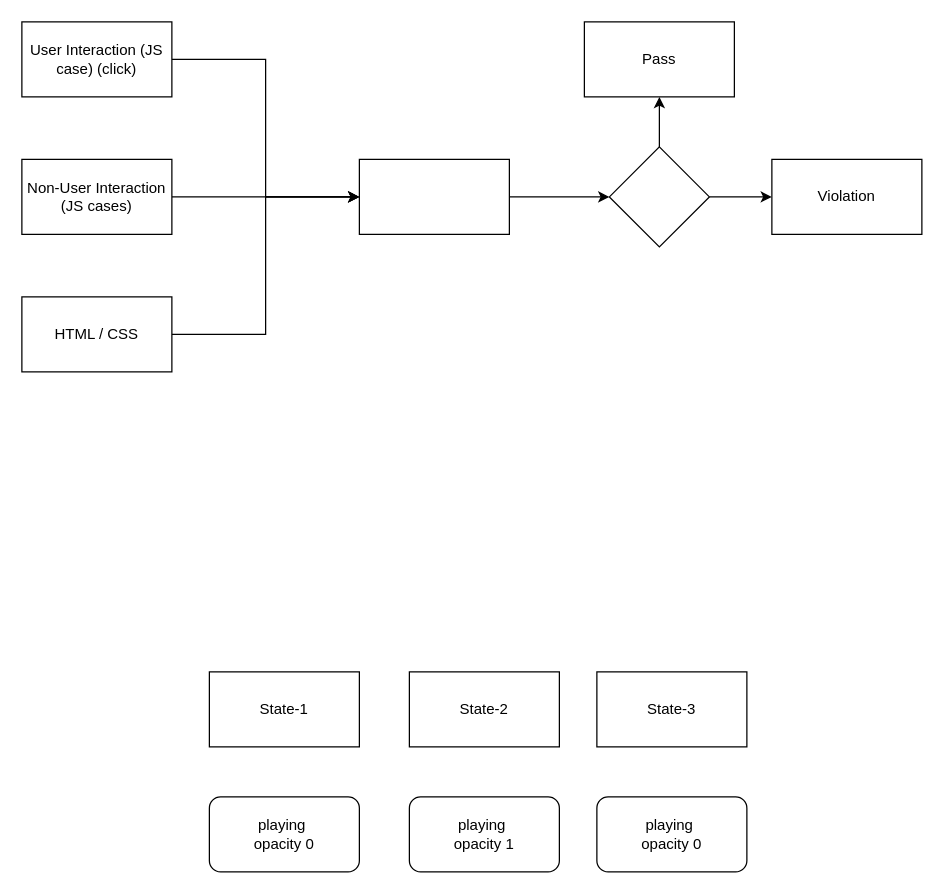
Image size: 944x894. Some labels were removed from this diagram. Here are the shapes that lost their labels. From the top down, the centre of each, then its label:
At (x=433, y=196): "Video is playing".
At (x=658, y=196): "controls?".
